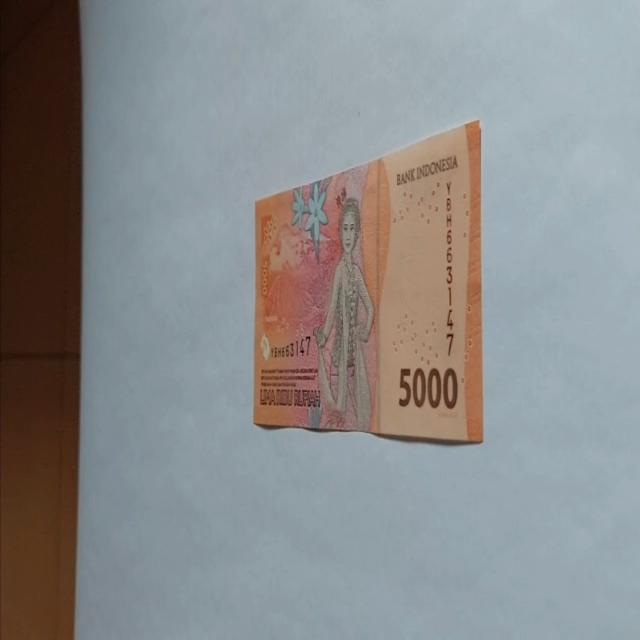lima ribu rupiah: (253, 118, 483, 444), (312, 197, 376, 430)
